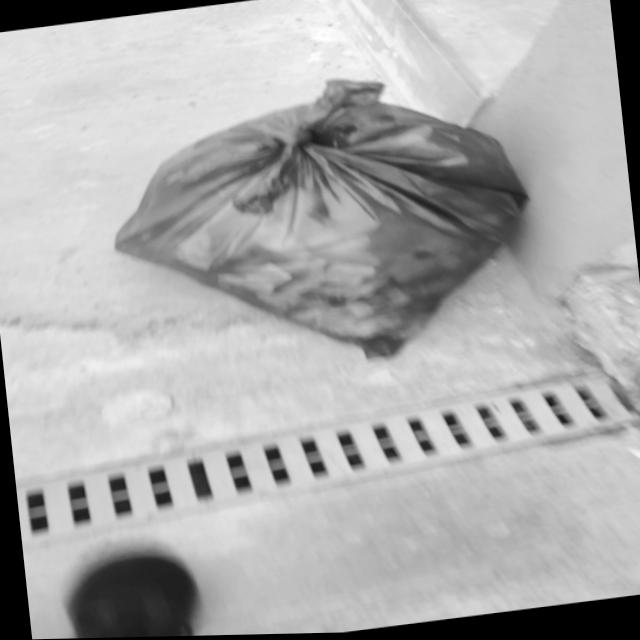Mixed Waste -Black Bags-: (111, 79, 540, 358)
